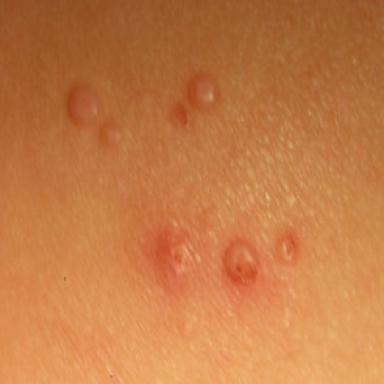Molluscum-Contagiosum: (150, 221, 199, 290), (225, 243, 257, 285), (68, 86, 97, 125), (188, 73, 216, 108), (276, 231, 299, 263), (100, 119, 121, 147)
